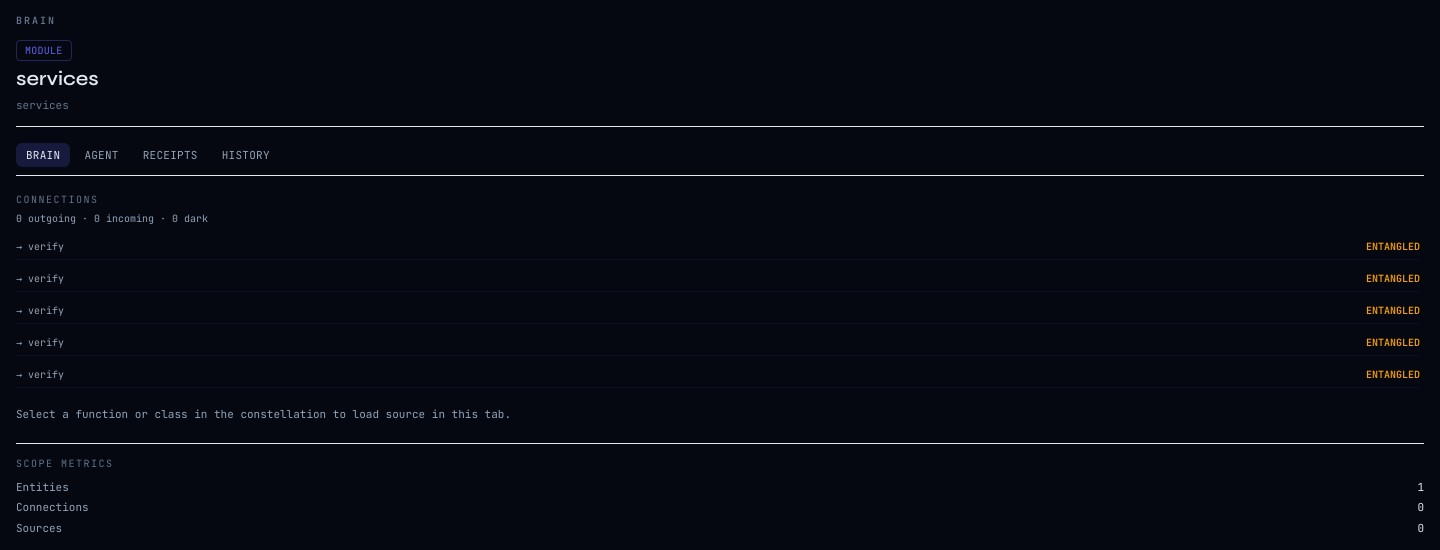
Scenario: XRayTab › renders HISTORY stub (inner inspector history is no longer a redirect)
Click the tab "HISTORY": [246, 155] box left=212, top=142, right=280, bottom=167
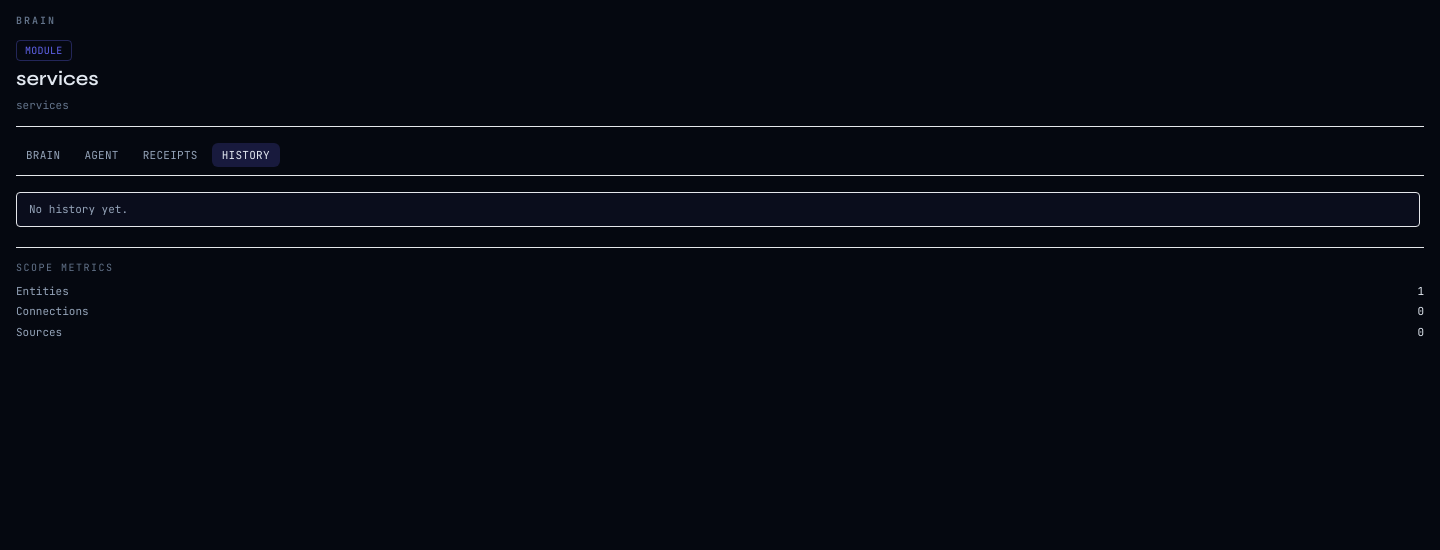
Now the text "No history yet" is shown, box left=29, top=202, right=128, bottom=216
